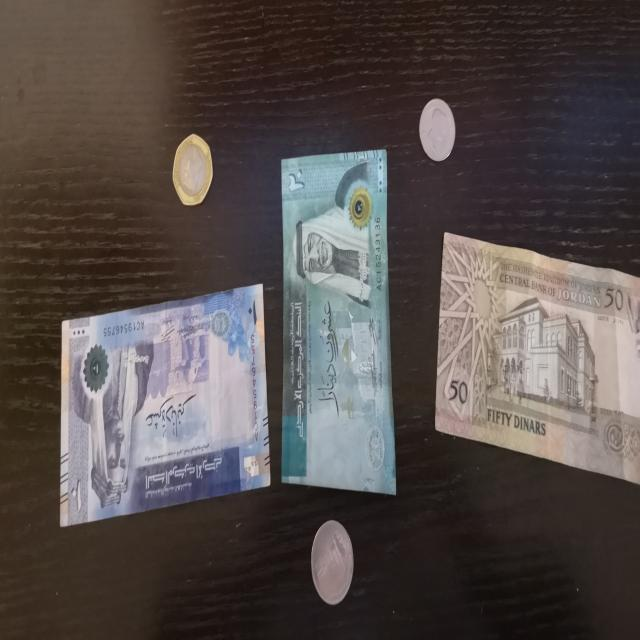10-coins: (310, 520, 354, 606)
10-dinar: (60, 288, 272, 525)
20-dinar: (280, 151, 396, 494)
5-coins: (419, 98, 456, 162)
50-dinar: (436, 233, 640, 482), (171, 135, 213, 208)
